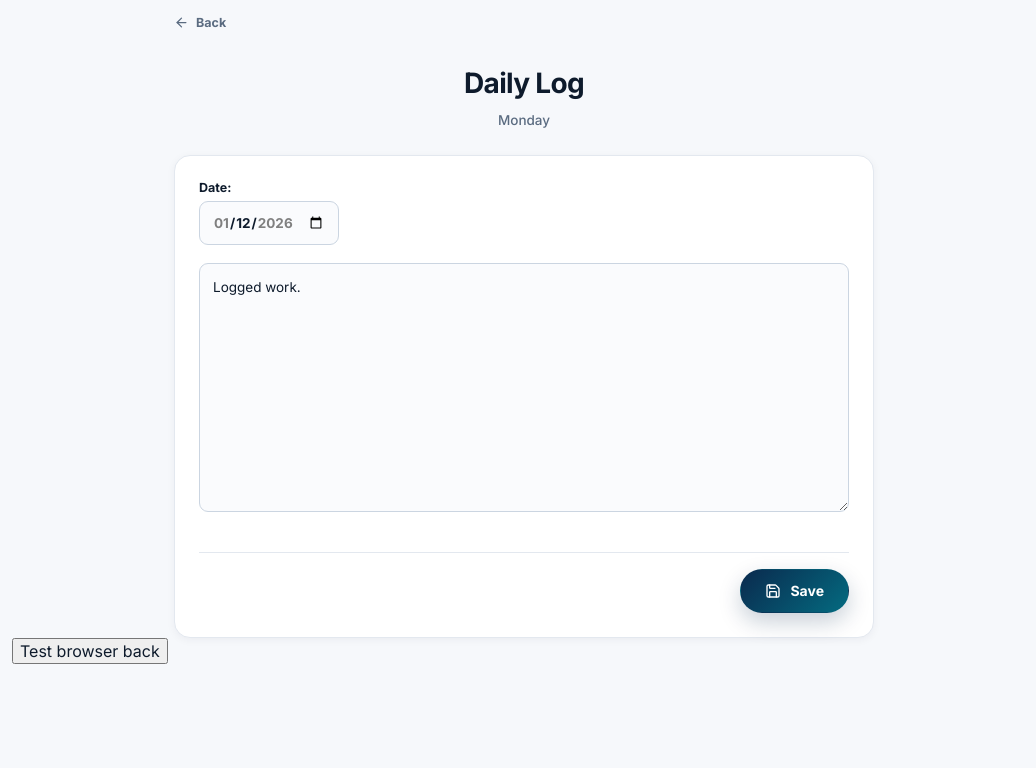
Test: DayPage › treats a malformed date string as incomplete on change, invalid on blur
Expected: the text box named "Daily log for 2026-01-12" is shown, [199, 263, 849, 512]
Type "not-a-date" into the date field labelled "Date".
click(269, 223); type("not-a-date")  # box [199, 201, 338, 245]
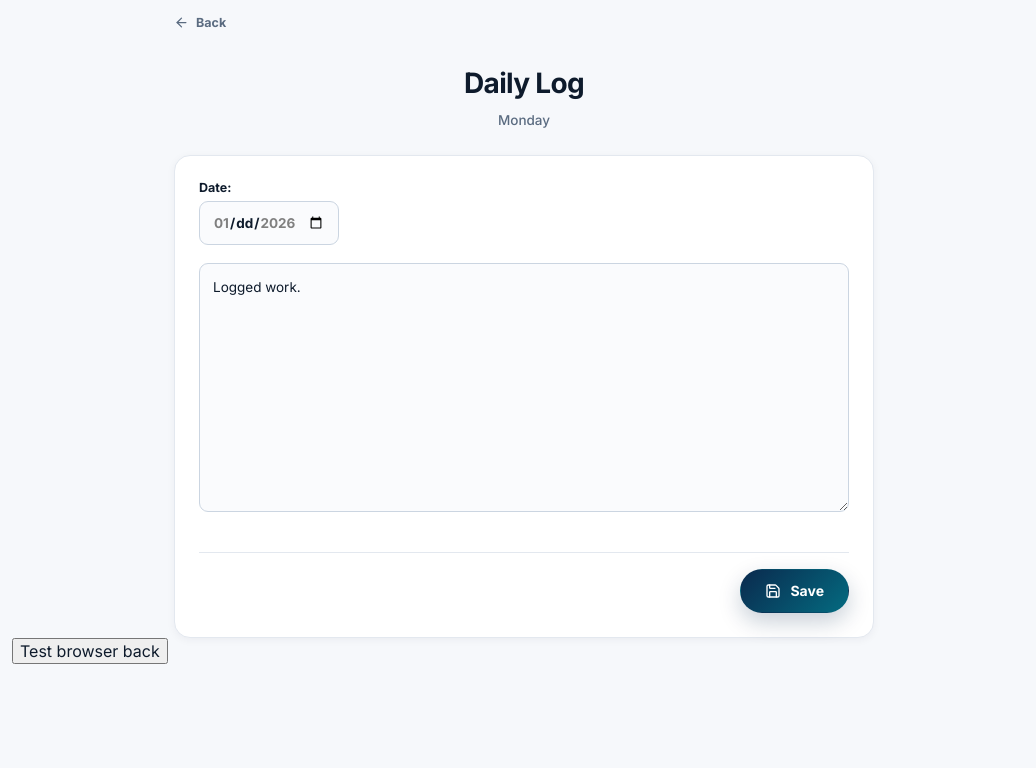
Leave the date field labelled "Date", box [199, 201, 338, 245]
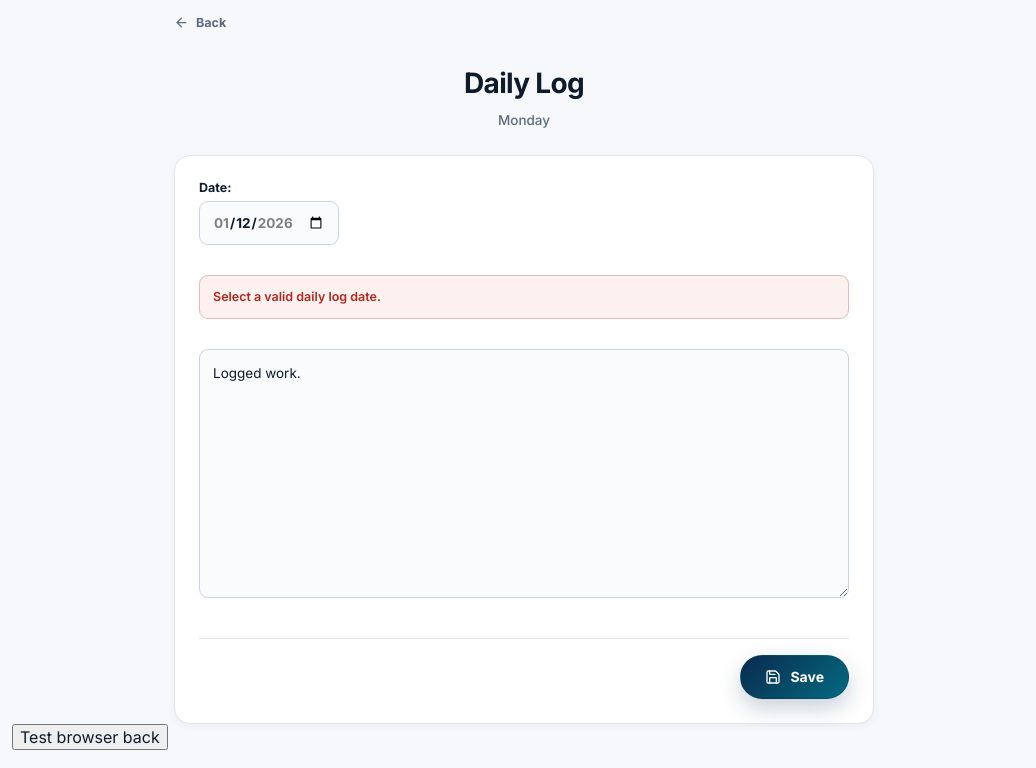
Now the message reads "Select a valid daily log date.", box [213, 289, 381, 304]
Now the date field labelled "Date" holds "2026-01-12", box [199, 201, 338, 245]
